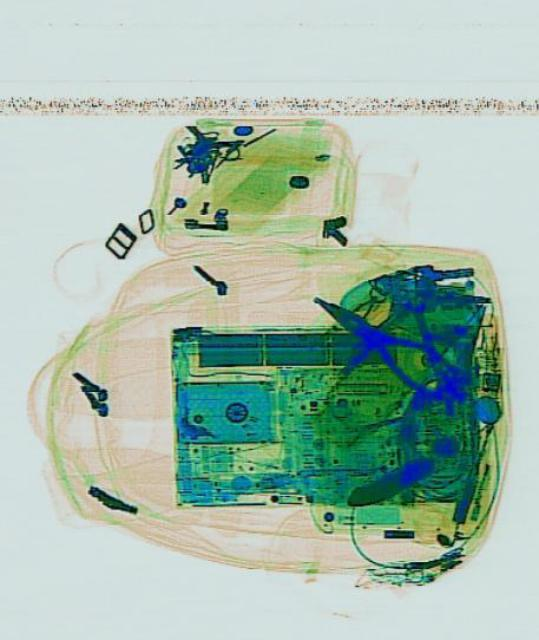Pliers: (301, 276, 456, 402)
